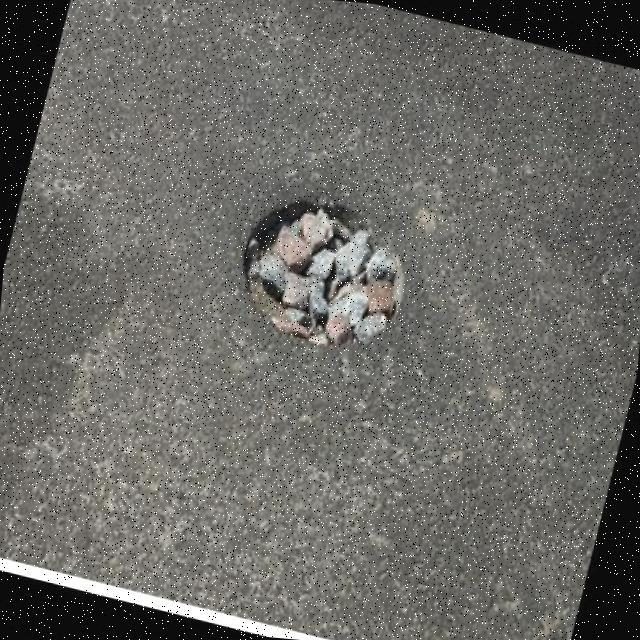Pothole: (243, 200, 403, 346)
